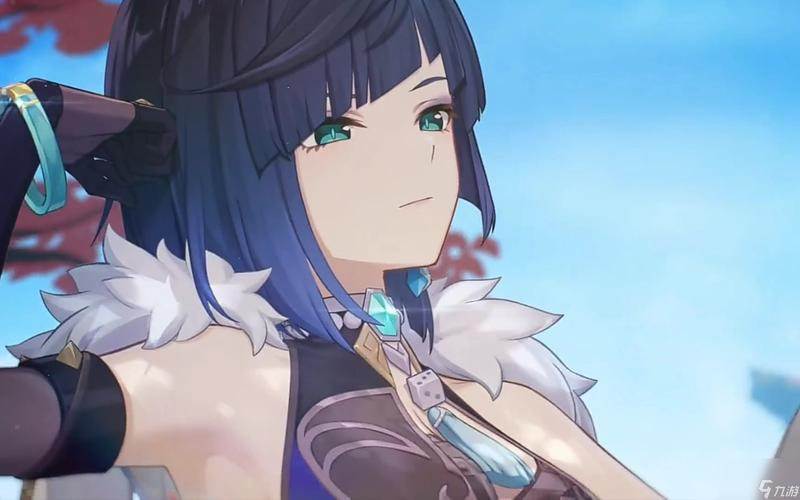夜兰: (1, 3, 681, 500)
